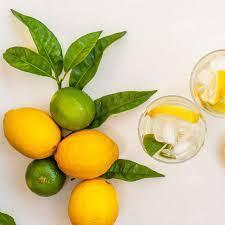lemon: (54, 129, 119, 179), (3, 107, 61, 160), (68, 179, 119, 225)
